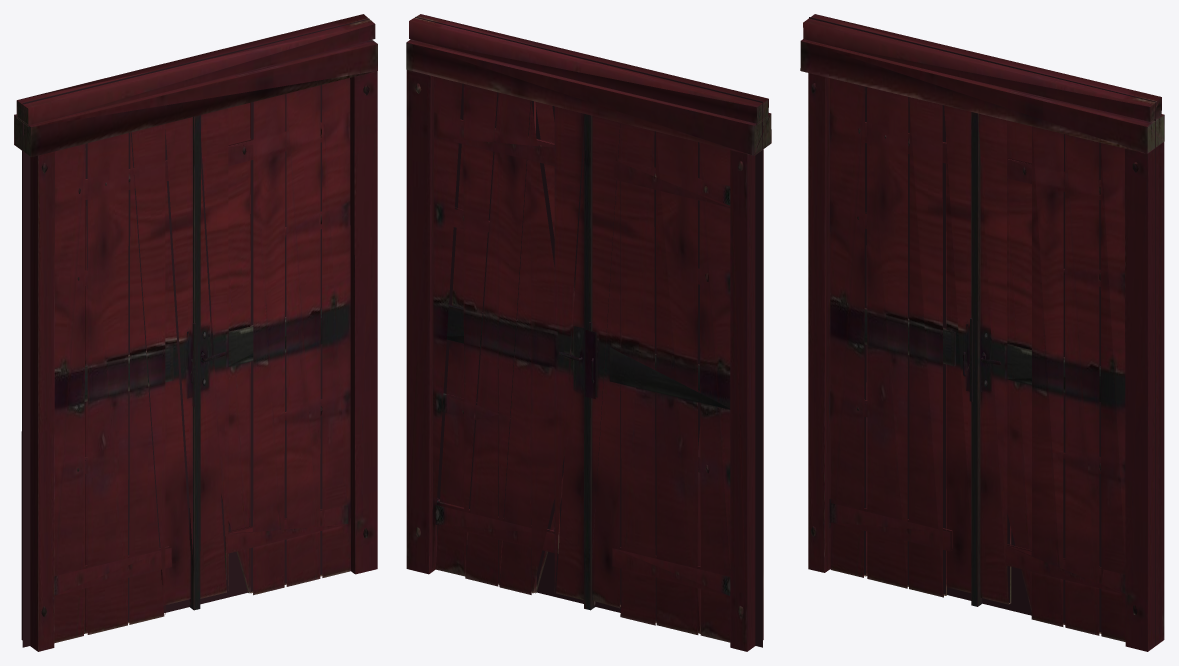
The model's file is gate.glb.
3 renders of one model, left to right at view 1: azimuth 30°, elevation 25°; view 2: azimuth 150°, elevation 25°; view 3: azimuth 330°, elevation 25°, orthographic.
Bounding box in the file's own units: 2 × 3 × 0.2.
1 material, 1 textured.
